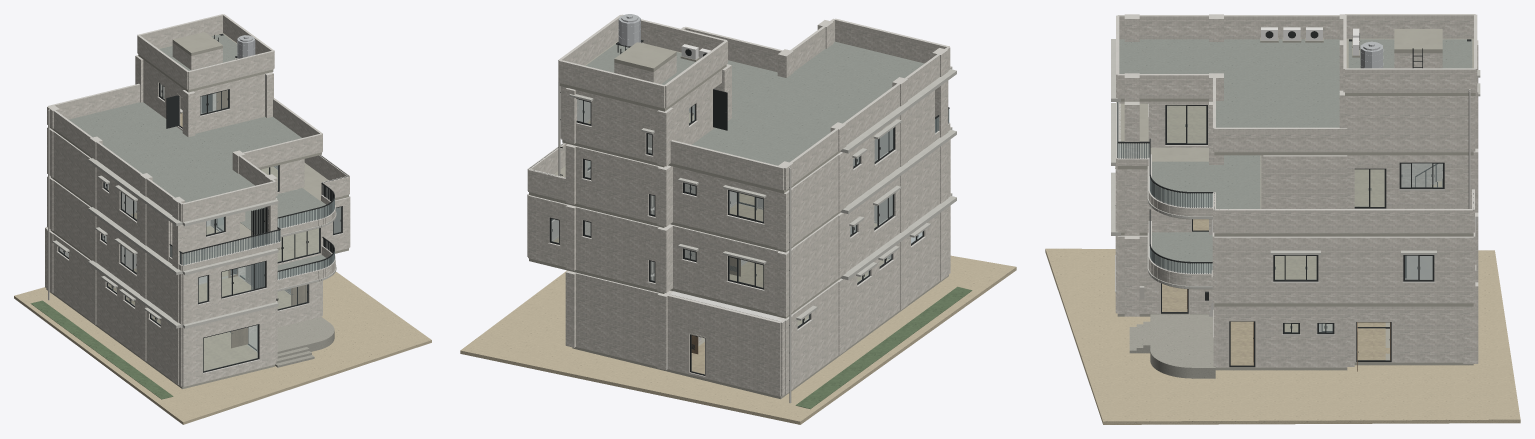
Rendered from house.glb.
3 views of the same model, side by side, from view 1: azimuth 30°, elevation 25°; view 2: azimuth 150°, elevation 25°; view 3: azimuth 270°, elevation 25° (orthographic). The views are drawn at different scales.
Parts seen in each view (by area): view 1: SITE_site_ground, FLOOR_4_floor_finish_terrace, FLOOR_1_wall_facade, FLOOR_2_wall_facade, FLOOR_4_parapet_facade, FLOOR_3_wall_facade, ROOF_parapet_facade, FLOOR_4_wall_facade, FLOOR_3_railing_metal, FLOOR_1_window_glass, SITE_site_porch, FLOOR_4_column_facade (+34 smaller); view 2: FLOOR_1_wall_facade, FLOOR_2_wall_facade, SITE_site_ground, FLOOR_3_wall_facade, FLOOR_4_floor_finish_terrace, FLOOR_4_parapet_facade, ROOF_parapet_facade, FLOOR_4_wall_facade, FLOOR_2_column_facade, FLOOR_3_column_facade, FLOOR_1_column_facade, FLOOR_4_column_facade (+27 smaller); view 3: SITE_site_ground, FLOOR_2_wall_facade, FLOOR_4_floor_finish_terrace, FLOOR_1_wall_facade, FLOOR_3_wall_facade, FLOOR_4_parapet_facade, FLOOR_4_wall_facade, FLOOR_3_parapet_facade, ROOF_parapet_facade, FLOOR_3_floor_finish_terrace, SITE_site_porch, FLOOR_3_slab_slab (+34 smaller).
Part boxes in pixels (x1,y1,x2,y2): SITE_site_ground: (14, 272, 431, 424); FLOOR_4_floor_finish_terrace: (69, 102, 301, 202); FLOOR_1_wall_facade: (45, 228, 322, 386); FLOOR_2_wall_facade: (53, 181, 350, 324); FLOOR_4_parapet_facade: (53, 84, 322, 222); FLOOR_3_wall_facade: (53, 109, 304, 261); ROOF_parapet_facade: (137, 15, 274, 89); FLOOR_4_wall_facade: (143, 60, 272, 133); FLOOR_3_railing_metal: (169, 155, 348, 265); FLOOR_1_window_glass: (59, 248, 306, 370); SITE_site_porch: (249, 317, 334, 367); FLOOR_4_column_facade: (47, 56, 277, 220); FLOOR_1_wall_facade: (576, 205, 950, 396); FLOOR_2_wall_facade: (527, 139, 950, 313); SITE_site_ground: (460, 255, 1016, 424); FLOOR_3_wall_facade: (576, 90, 934, 247); FLOOR_4_floor_finish_terrace: (692, 41, 924, 165); FLOOR_4_parapet_facade: (561, 20, 950, 190); ROOF_parapet_facade: (558, 18, 727, 108); FLOOR_4_wall_facade: (560, 70, 721, 162); FLOOR_2_column_facade: (565, 141, 948, 316); FLOOR_3_column_facade: (565, 81, 948, 250); FLOOR_1_column_facade: (565, 207, 948, 394); FLOOR_4_column_facade: (565, 22, 948, 190); SITE_site_ground: (1045, 248, 1520, 424); FLOOR_2_wall_facade: (1115, 166, 1475, 303); FLOOR_4_floor_finish_terrace: (1119, 39, 1339, 127); FLOOR_1_wall_facade: (1115, 236, 1463, 367); FLOOR_3_wall_facade: (1148, 101, 1463, 208); FLOOR_4_parapet_facade: (1116, 16, 1347, 152); FLOOR_4_wall_facade: (1345, 96, 1475, 152); FLOOR_3_parapet_facade: (1116, 101, 1474, 233); ROOF_parapet_facade: (1343, 15, 1477, 92); FLOOR_3_floor_finish_terrace: (1152, 155, 1260, 208); SITE_site_porch: (1129, 314, 1215, 378); FLOOR_3_slab_slab: (1117, 103, 1473, 236).
Size of the model in its own units: 19.1 by 16.92 by 22.2.
Materials: 23 (13 with a texture image).
